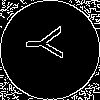Y: (25, 25, 73, 62)
